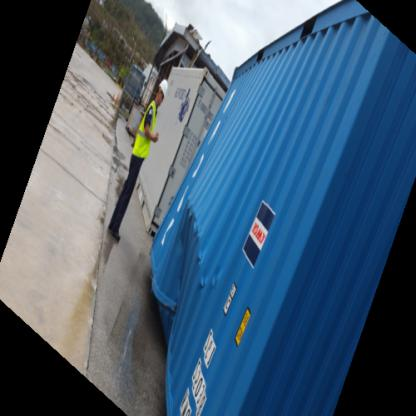Damage: (157, 196, 255, 315)
